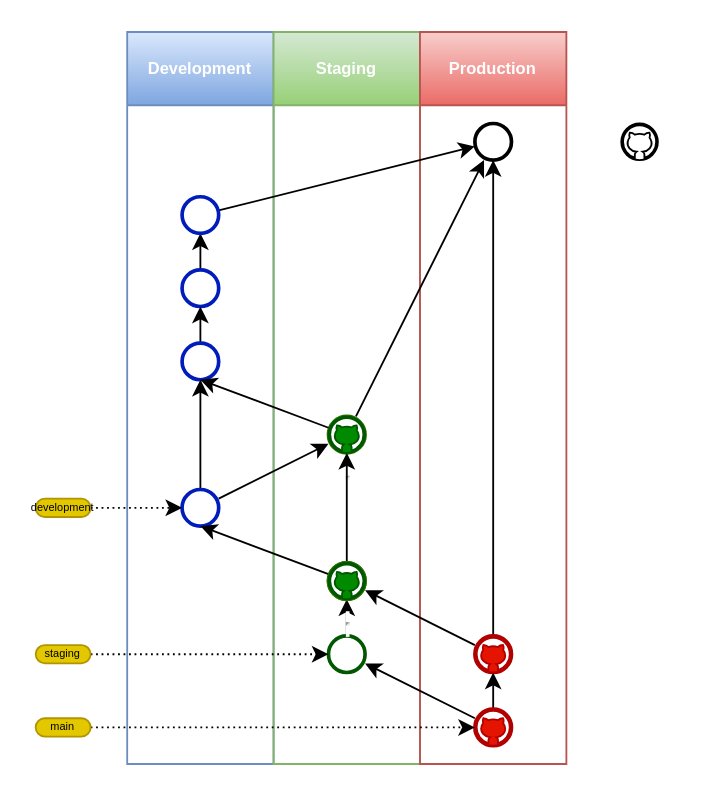
Some shapes in this 721 by 796 pixel diagram are drawn without their labels. Here are the shapes that lost their labels. From the top down, the centre of each, then its label:
(492,141): initial
(638,141): GitHub Merge
